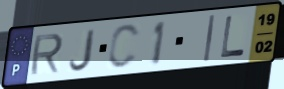1: (151, 18, 167, 68)
C: (106, 22, 143, 71)
I: (202, 13, 217, 64)
J: (67, 27, 98, 73)
L: (219, 14, 246, 59)
R: (27, 31, 66, 77)
